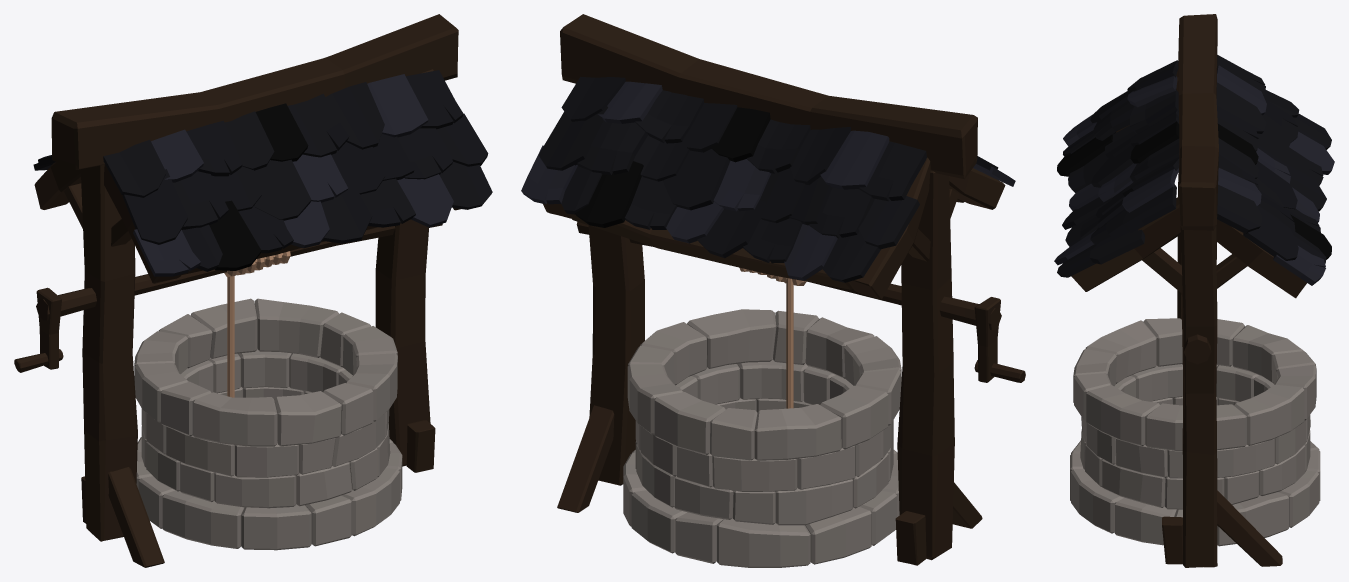
File: Well.fbx
3 renders of one model, left to right at view 1: azimuth 30°, elevation 25°; view 2: azimuth 150°, elevation 25°; view 3: azimuth 270°, elevation 25°, orthographic. The views are drawn at different scales.
Visible parts, largest first — view 1: roof, Cube.003, Cube.020, Cube.005, Cube.002, Cube, Cube.011, Cube.001, Cylinder, Cube.004, Cube.007, Cube.013 (+3 smaller); view 2: roof.001, Cube.003, Cube.020, Cube.005, Cube.002, Cube, Cube.011, Cube.001, Cylinder, Cube.012, Cube.019, Cube.007 (+4 smaller); view 3: Cube.003, roof.001, roof, Cube.011, Cube.002, Cube.020, Cube, Cube.001, Cube.014, Cube.015, Cube.012, Cube.013 (+3 smaller).
Boxes of the visible parts, left/top/right/bottom form: roof: left=103, top=70, right=492, bottom=276; Cube.003: left=134, top=298, right=397, bottom=446; Cube.020: left=51, top=14, right=458, bottom=169; Cube.005: left=80, top=164, right=137, bottom=541; Cube.002: left=141, top=349, right=389, bottom=477; Cube: left=136, top=437, right=402, bottom=550; Cube.011: left=375, top=219, right=430, bottom=466; Cube.001: left=141, top=386, right=390, bottom=508; Cylinder: left=14, top=223, right=442, bottom=372; Cube.004: left=108, top=467, right=164, bottom=567; Cube.007: left=34, top=162, right=81, bottom=209; Cube.013: left=406, top=420, right=435, bottom=472; roof.001: left=521, top=77, right=926, bottom=282; Cube.003: left=627, top=309, right=901, bottom=460; Cube.020: left=560, top=14, right=977, bottom=179; Cube.005: left=897, top=170, right=954, bottom=560; Cube.002: left=635, top=358, right=893, bottom=491; Cube: left=623, top=450, right=899, bottom=567; Cube.011: left=588, top=225, right=644, bottom=485; Cube.001: left=635, top=398, right=893, bottom=525; Cylinder: left=576, top=221, right=1025, bottom=382; Cube.012: left=557, top=405, right=614, bottom=512; Cube.019: left=570, top=214, right=853, bottom=289; Cube.007: left=848, top=157, right=930, bottom=299; Cube.003: left=1073, top=318, right=1316, bottom=450; roof.001: left=1216, top=55, right=1334, bottom=285; roof: left=1054, top=60, right=1179, bottom=277; Cube.011: left=1180, top=226, right=1217, bottom=567; Cube.002: left=1081, top=364, right=1310, bottom=478; Cube.020: left=1178, top=14, right=1218, bottom=230; Cube: left=1070, top=440, right=1320, bottom=546; Cube.001: left=1080, top=396, right=1310, bottom=509; Cube.014: left=1071, top=196, right=1180, bottom=291; Cube.015: left=1216, top=219, right=1306, bottom=298; Cube.012: left=1217, top=490, right=1282, bottom=566; Cube.013: left=1162, top=516, right=1182, bottom=564.
Bounding box in the file's own units: 231 × 218 × 139.
